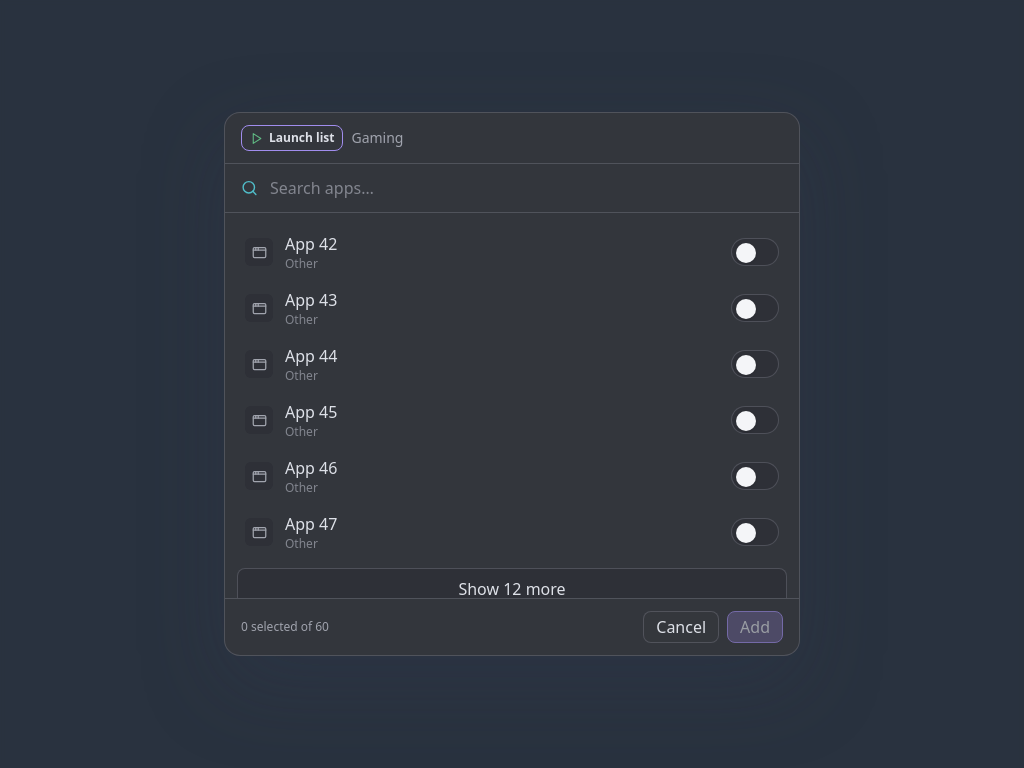
Test: AppPickerDialog › stops offering more once the whole list is rendered
The image size is (1024, 768).
(page scrolled)
Click the button "Show 12 more": (512, 589) [237,568,787,610]
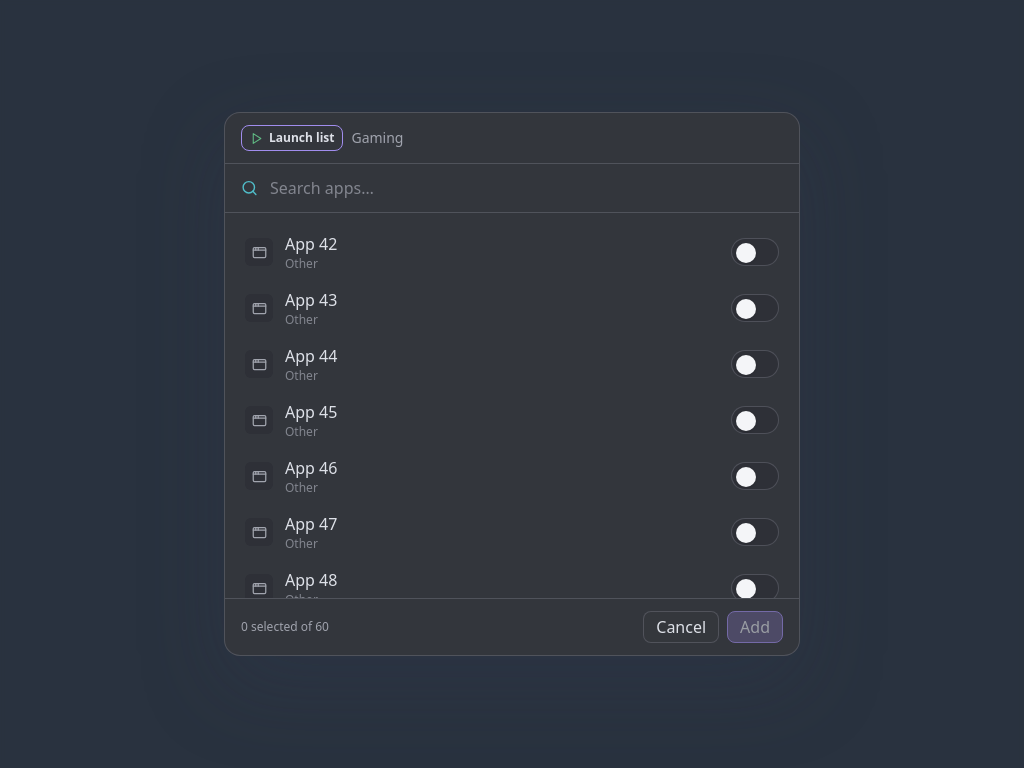
Expected: the button "Show 12 more" is gone
